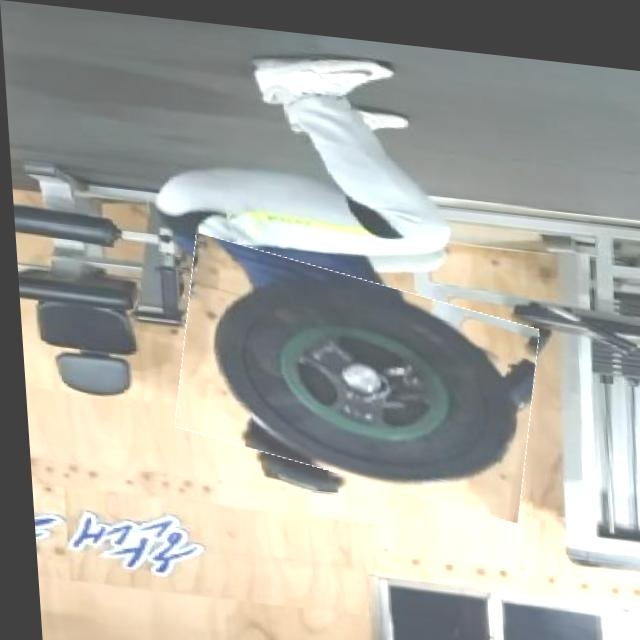barbell: (168, 241, 538, 502)
